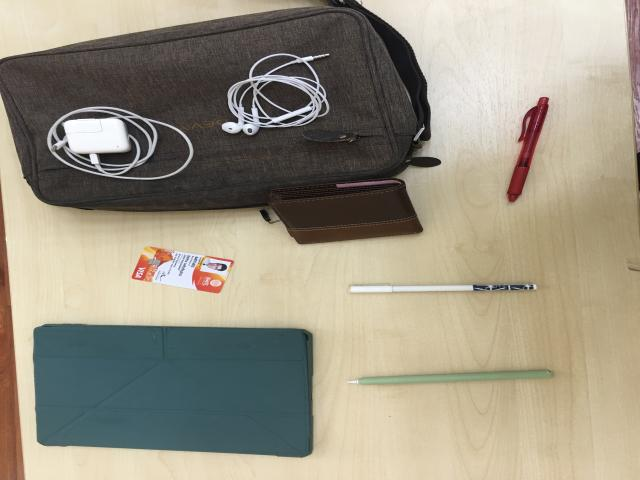Pen: (506, 96, 551, 204), (348, 283, 536, 297)
Wallet: (268, 180, 423, 245)
wire: (45, 105, 186, 179), (220, 54, 331, 137)
